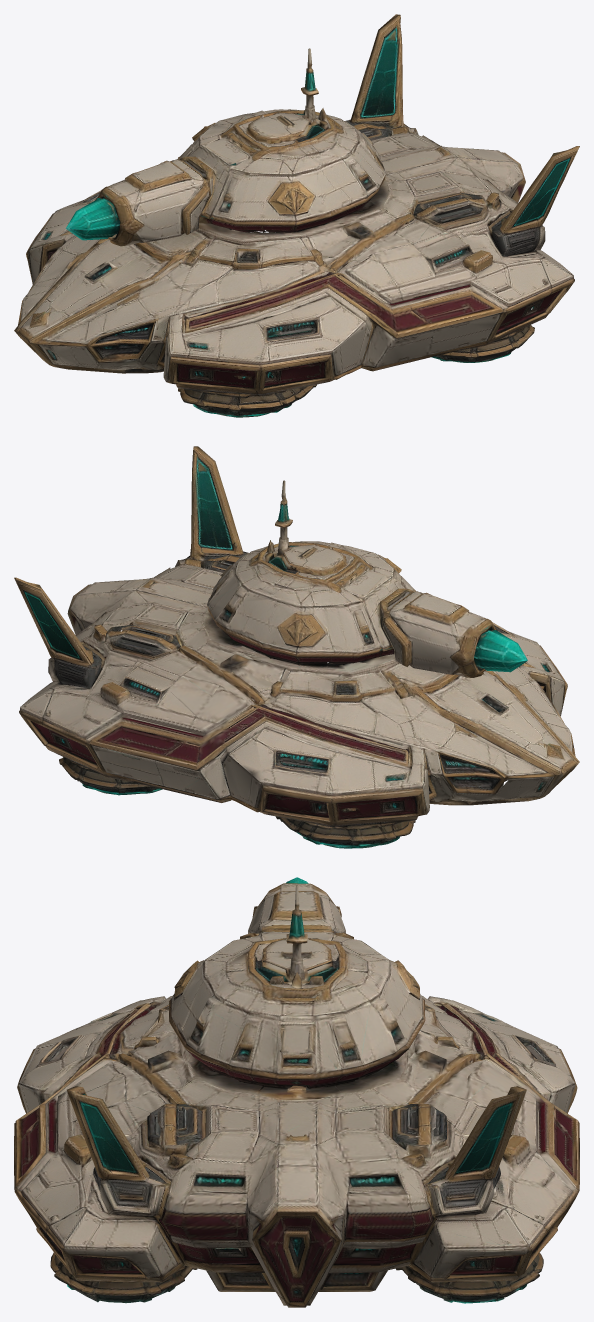
File: zenith-emitter.glb
The picture shows the model from 3 angles, top to bottom: view 1: azimuth 30°, elevation 25°; view 2: azimuth 150°, elevation 25°; view 3: azimuth 270°, elevation 25°; orthographic projection. The views are drawn at different scales.
Parts seen in each view (by area): view 1: Hull, Emitter; view 2: Hull, Emitter; view 3: Hull, Emitter.
Part boxes in pixels (x1,y1,x2,y2): Hull: [14, 14, 579, 417]; Emitter: [78, 48, 386, 238]; Hull: [14, 446, 579, 848]; Emitter: [207, 480, 515, 673]; Hull: [14, 877, 579, 1307]; Emitter: [169, 877, 425, 1070].
Bounding box in the file's own units: 2 × 1.06 × 1.59.
Materials: 1 (1 with a texture image).
